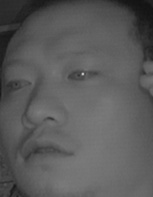eye: (65, 62, 99, 85), (5, 73, 35, 94)
mouth: (19, 134, 75, 169)
